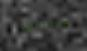eight: (24, 21, 30, 32)
four: (31, 21, 37, 31)
seven: (17, 22, 23, 32)
three: (38, 20, 44, 30)
two: (45, 19, 51, 30), (59, 18, 65, 29), (52, 19, 58, 29)
